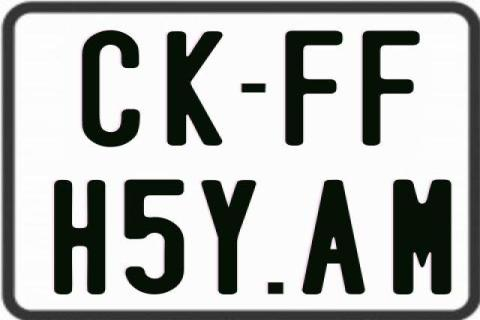0: (121, 178, 183, 294)
A: (302, 178, 372, 294)
C: (82, 28, 146, 146)
F: (285, 29, 347, 145), (362, 29, 424, 144)
H: (53, 178, 110, 296)
K: (165, 32, 224, 150)
M: (390, 178, 454, 296)
Y: (201, 180, 256, 298)
